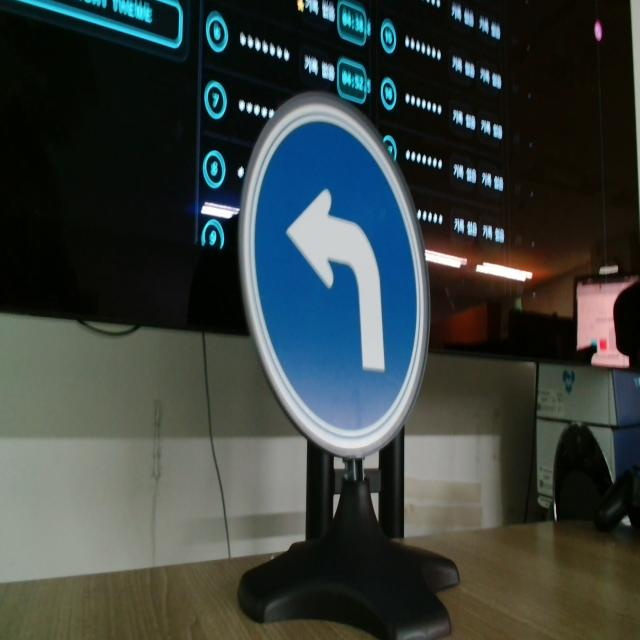left_direction: (238, 88, 430, 452)
